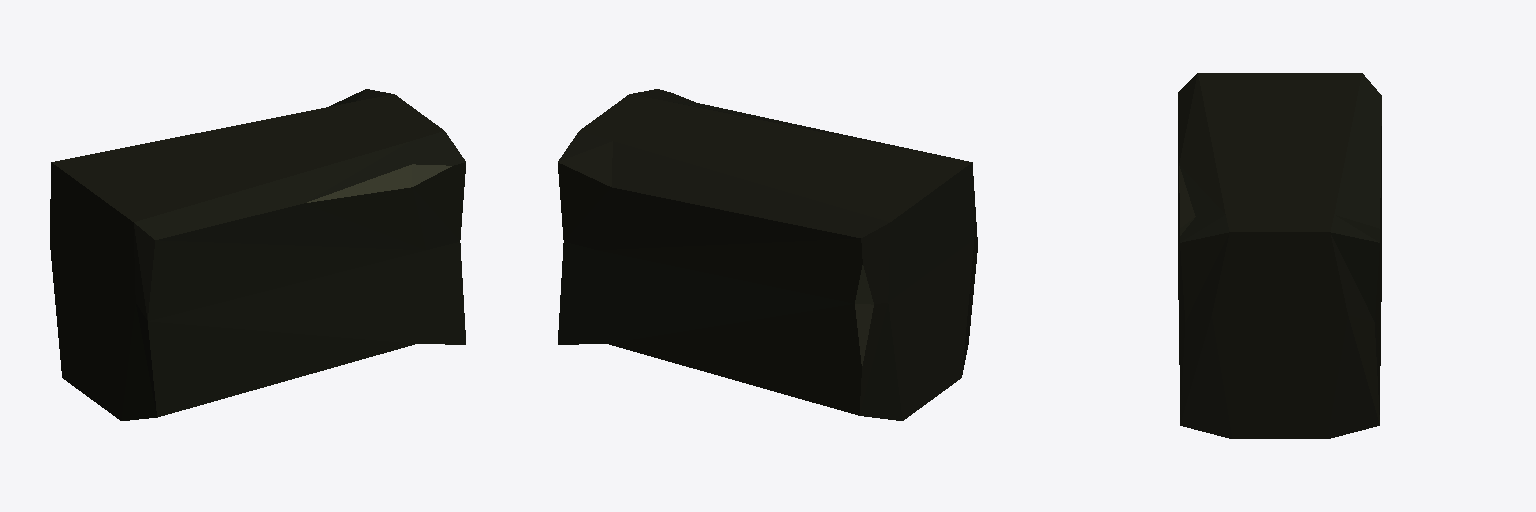
Rendered from Brick.obj.
3 renders of one model, left to right at view 1: azimuth 30°, elevation 25°; view 2: azimuth 150°, elevation 25°; view 3: azimuth 270°, elevation 25°, orthographic.
Parts seen in each view (by area): view 1: Brick_Cube.676; view 2: Brick_Cube.676; view 3: Brick_Cube.676.
Boxes of the visible parts, x1,y1,x2,y2 form: Brick_Cube.676: [50, 89, 465, 420]; Brick_Cube.676: [558, 89, 977, 420]; Brick_Cube.676: [1178, 73, 1381, 438].
Size of the model in its own units: 0.5301 by 0.3194 by 0.2849.